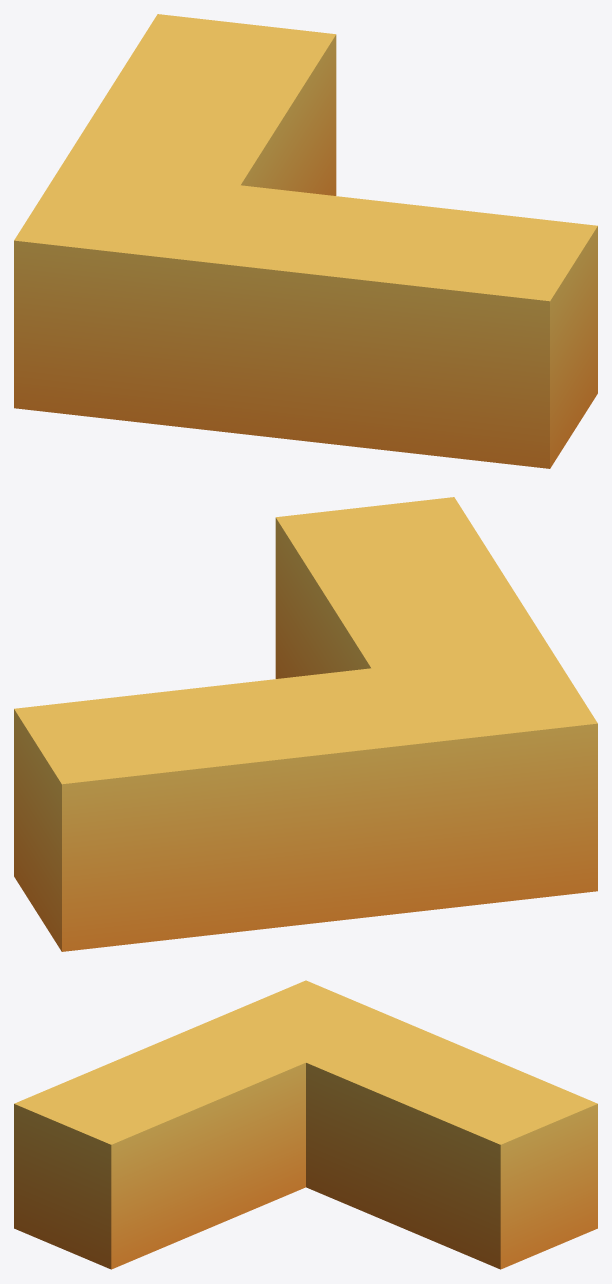
Rendered from arrow-basic.fbx.
3 views of the same model, one above another, from view 1: azimuth 30°, elevation 25°; view 2: azimuth 150°, elevation 25°; view 3: azimuth 270°, elevation 25° (orthographic). The views are drawn at different scales.
Parts seen in each view (by area): view 1: arrow-basic; view 2: arrow-basic; view 3: arrow-basic.
Part boxes in pixels (x1,y1,x2,y2): arrow-basic: (14, 14, 597, 468); arrow-basic: (14, 497, 597, 951); arrow-basic: (14, 980, 597, 1269).
Bounding box in the file's own units: 56.57 × 20 × 84.85.
Materials: 1 (1 with a texture image).
